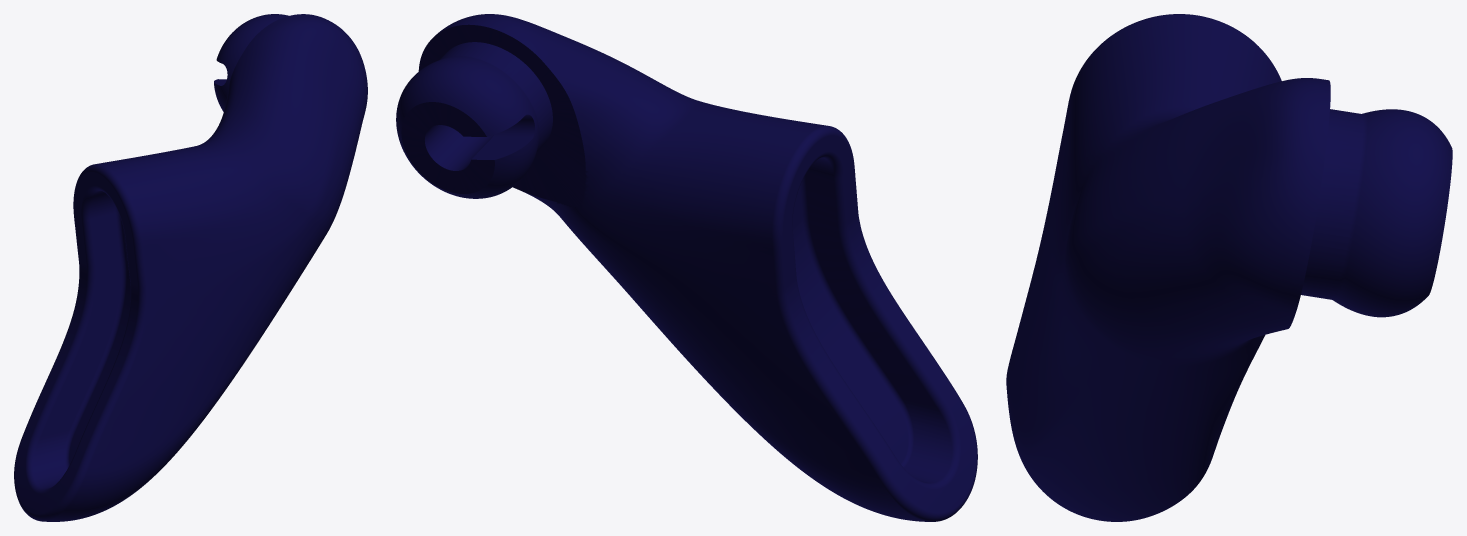
Rendered from 手袖左边_dark_purple.obj.
3 renders of one model, left to right at view 1: azimuth 30°, elevation 25°; view 2: azimuth 150°, elevation 25°; view 3: azimuth 270°, elevation 25°, orthographic. The views are drawn at different scales.
Bounding box in the file's own units: 43.59 × 41.05 × 25.74.
